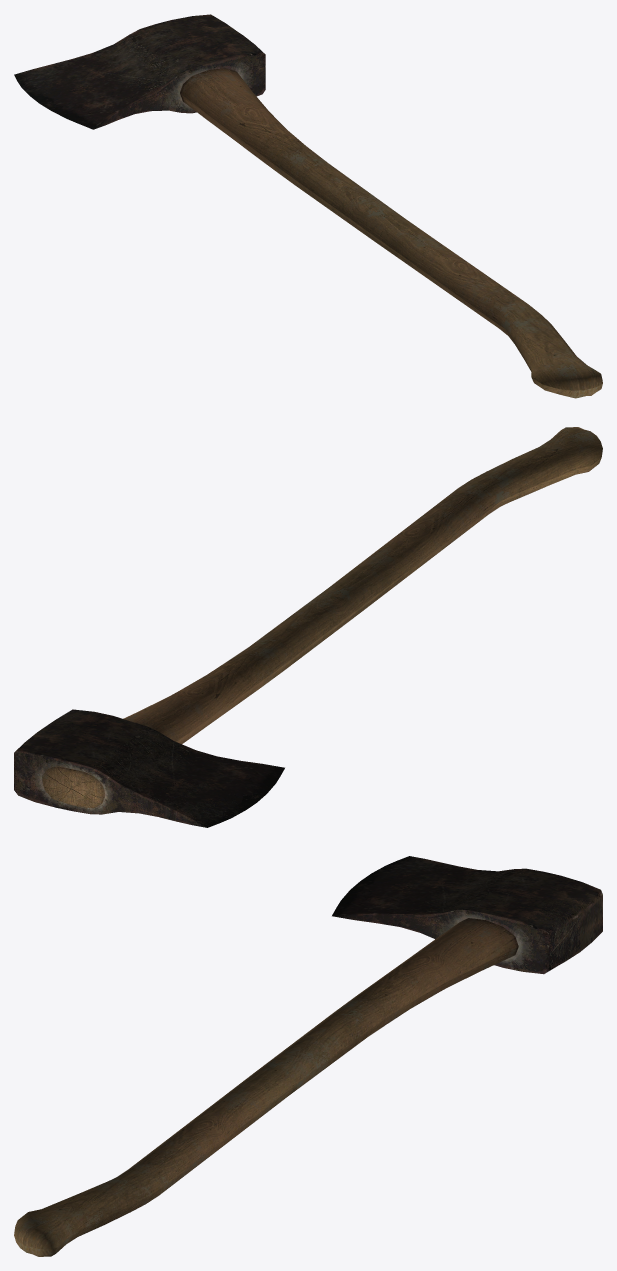
The model's file is woodcuttingaxe.obj.
The picture shows the model from 3 angles, top to bottom: view 1: azimuth 30°, elevation 25°; view 2: azimuth 150°, elevation 25°; view 3: azimuth 330°, elevation 25°; orthographic projection. The views are drawn at different scales.
Visible parts, largest first — view 1: WoodCuttingAxe_0; view 2: WoodCuttingAxe_0; view 3: WoodCuttingAxe_0.
Part boxes in pixels (box(x1,y1,x2,y2)): WoodCuttingAxe_0: box(14, 14, 602, 398); WoodCuttingAxe_0: box(14, 427, 602, 827); WoodCuttingAxe_0: box(14, 856, 602, 1256).
Bounding box in the file's own units: 18.52 × 4.21 × 72.73.
Materials: 1 (1 with a texture image).
